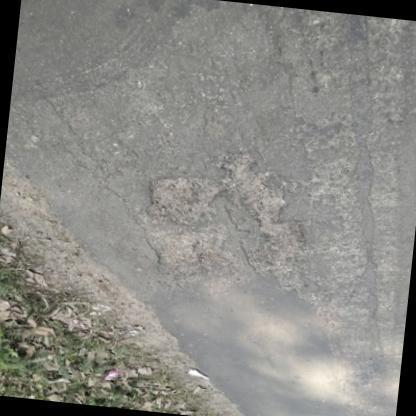pothole: (231, 153, 291, 229), (145, 172, 218, 224)
